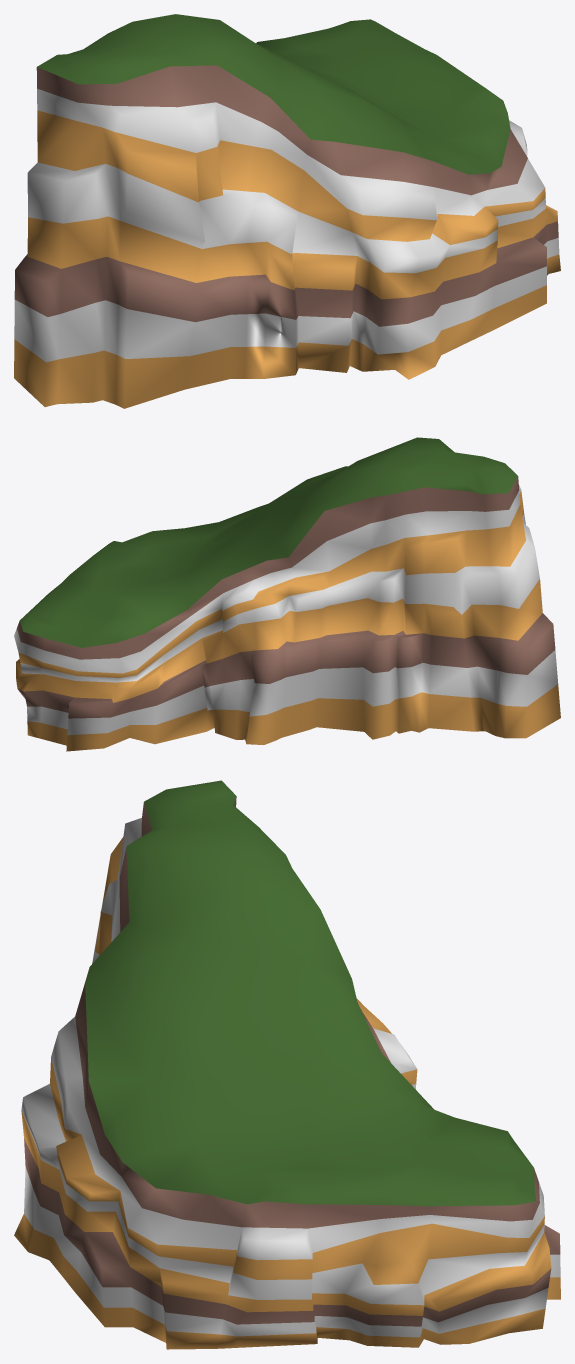
Rendered from IslandLighthouse_Sediments.fbx.
The picture shows the model from 3 angles, top to bottom: view 1: azimuth 30°, elevation 25°; view 2: azimuth 150°, elevation 25°; view 3: azimuth 270°, elevation 25°; orthographic projection. The views are drawn at different scales.
Visible parts, largest first — view 1: IslandLighthouse_Cliffside, IslandLighthouse_Grass; view 2: IslandLighthouse_Cliffside, IslandLighthouse_Grass; view 3: IslandLighthouse_Grass, IslandLighthouse_Cliffside.
Part boxes in pixels (box(x1,y1,x2,y2)): IslandLighthouse_Cliffside: box(14, 65, 560, 408); IslandLighthouse_Grass: box(37, 14, 510, 174); IslandLighthouse_Cliffside: box(14, 476, 560, 751); IslandLighthouse_Grass: box(20, 437, 517, 647); IslandLighthouse_Grass: box(85, 780, 536, 1206); IslandLighthouse_Cliffside: box(14, 797, 560, 1349).
Size of the model in its own units: 115 by 63.86 by 97.38.
